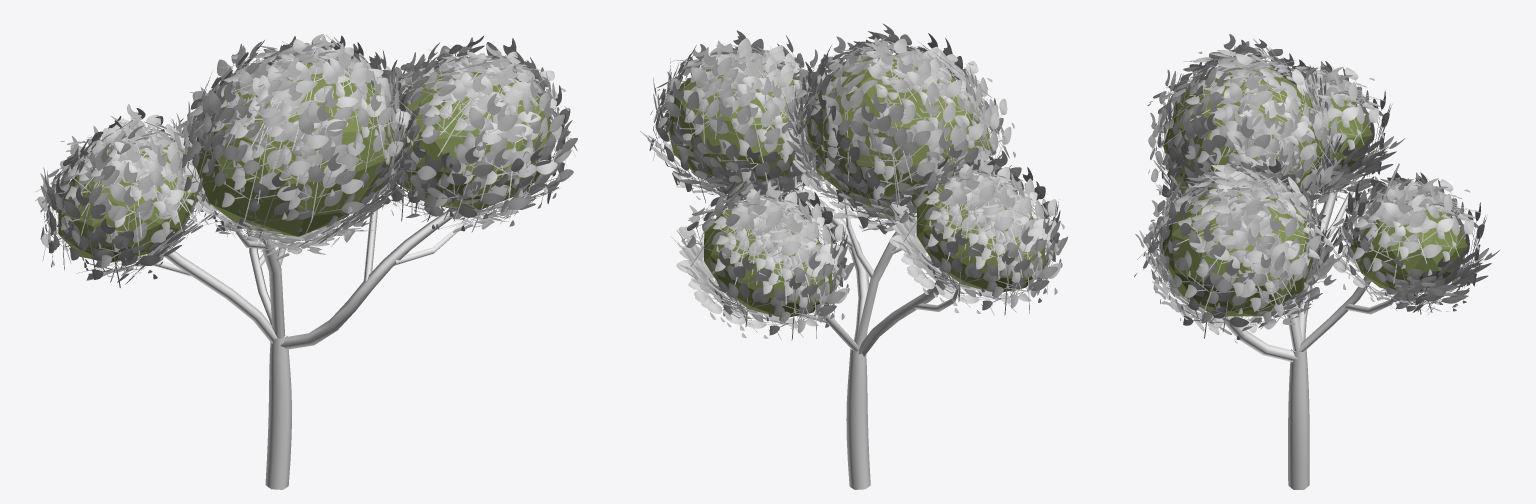
The model's file is tree_v2.glb.
3 renders of one model, left to right at view 1: azimuth 30°, elevation 25°; view 2: azimuth 150°, elevation 25°; view 3: azimuth 270°, elevation 25°, orthographic. The views are drawn at different scales.
Visible parts, largest first — view 1: green_spheare.001, green_spheare.002, green_spheare, NurbsPath, NurbsPath.002, NurbsPath.003, diffuse_branch.109, diffuse_branch.055, diffuse_branch.017, diffuse_branch.162, diffuse_branch.070, NurbsPath.001 (+49 smaller); view 2: green_spheare.001, green_spheare.002, green_spheare.003, NurbsPath, green_spheare, diffuse_branch.129, diffuse_branch.050, diffuse_branch.152, diffuse_branch.174, diffuse_branch.153, diffuse_branch.222, diffuse_branch.292 (+73 smaller); view 3: green_spheare.002, green_spheare.003, green_spheare.001, NurbsPath, diffuse_branch.262, green_spheare, diffuse_branch.245, diffuse_branch.059, diffuse_branch.046, diffuse_branch.141, diffuse_branch.075, diffuse_branch.006 (+49 smaller).
Part boxes in pixels (x1,y1,x2,y2): green_spheare.001: (192,61,394,236); green_spheare.002: (396,71,551,209); green_spheare: (58,144,198,262); NurbsPath: (265,336,291,489); NurbsPath.002: (280,207,455,349); NurbsPath.003: (163,248,277,343); diffuse_branch.109: (285,152,364,234); diffuse_branch.055: (454,93,531,190); diffuse_branch.017: (421,72,501,161); diffuse_branch.162: (281,100,359,188); diffuse_branch.070: (423,146,503,219); NurbsPath.001: (255,230,285,338); green_spheare.001: (804,54,991,217); green_spheare.002: (667,61,810,189); green_spheare.003: (704,209,832,317); NurbsPath: (846,349,870,489); green_spheare: (916,184,1045,292); diffuse_branch.129: (889,56,967,132); diffuse_branch.050: (709,98,784,181); diffuse_branch.152: (850,103,917,184); diffuse_branch.174: (916,97,988,180); diffuse_branch.153: (862,93,931,178); diffuse_branch.222: (732,195,801,285); diffuse_branch.292: (944,170,1013,260); green_spheare.002: (1161,186,1316,316); green_spheare.003: (1350,203,1467,293); green_spheare.001: (1163,66,1324,197); NurbsPath: (1288,349,1309,489); diffuse_branch.262: (1371,193,1442,284); green_spheare: (1312,92,1372,170); diffuse_branch.245: (1384,184,1456,263); diffuse_branch.059: (1173,222,1232,308); diffuse_branch.046: (1217,212,1291,298); diffuse_branch.141: (1209,71,1281,155); diffuse_branch.075: (1200,259,1271,331); diffuse_branch.006: (1181,275,1248,339).
Bounding box in the file's own units: 1.01 × 0.9146 × 0.7455.
2 materials, 1 textured.
